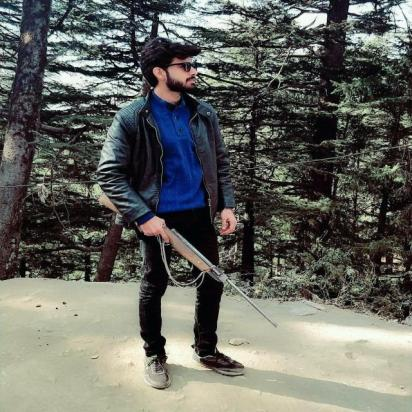Gun: (94, 191, 281, 330)
